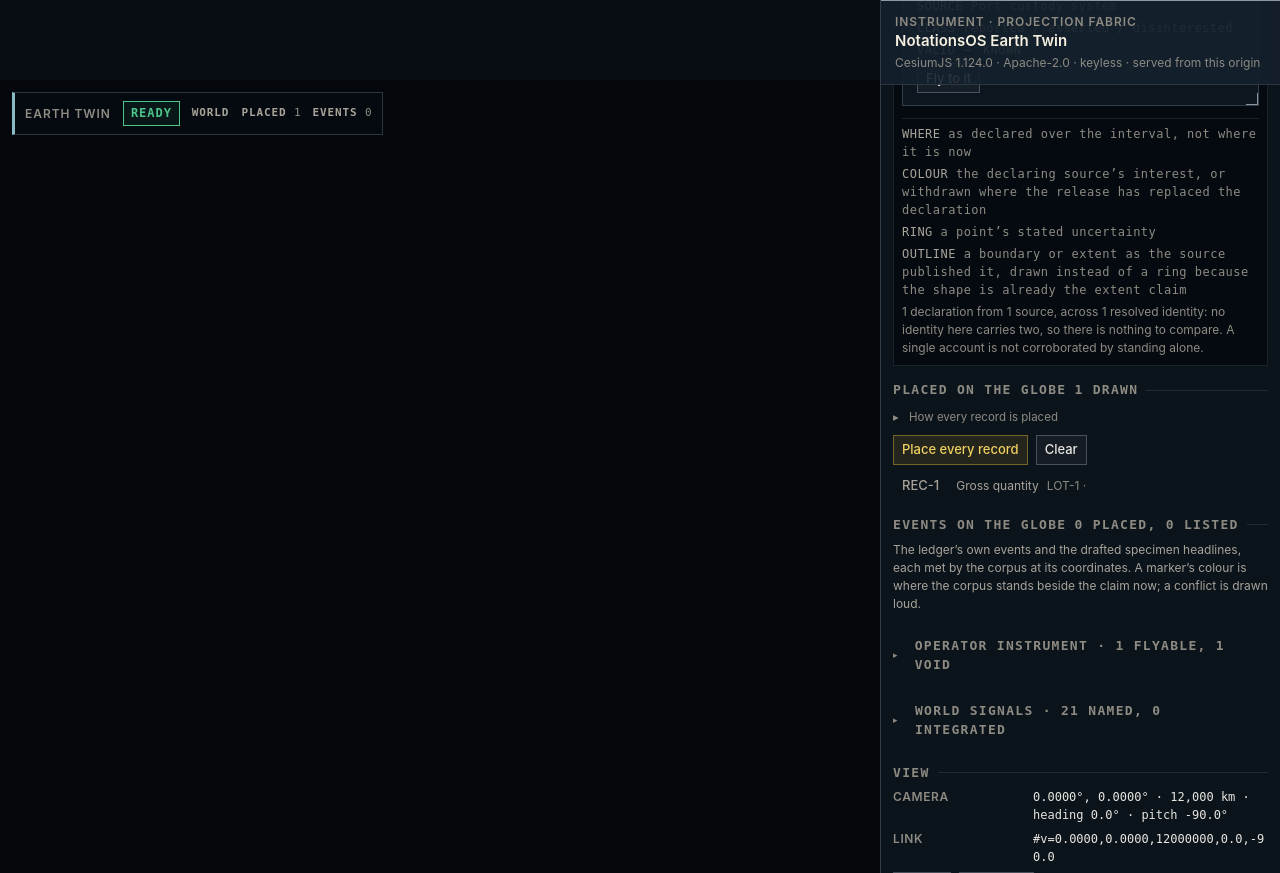
Test: EarthTwin › places every record of the release on request, each at its own validity start, and reports placed, unplaced and refused without inventing
The width and height of the screenshot is (1280, 873).
(page scrolled)
Click the button with test id "place-all": click(960, 450) [893, 435, 1028, 465]
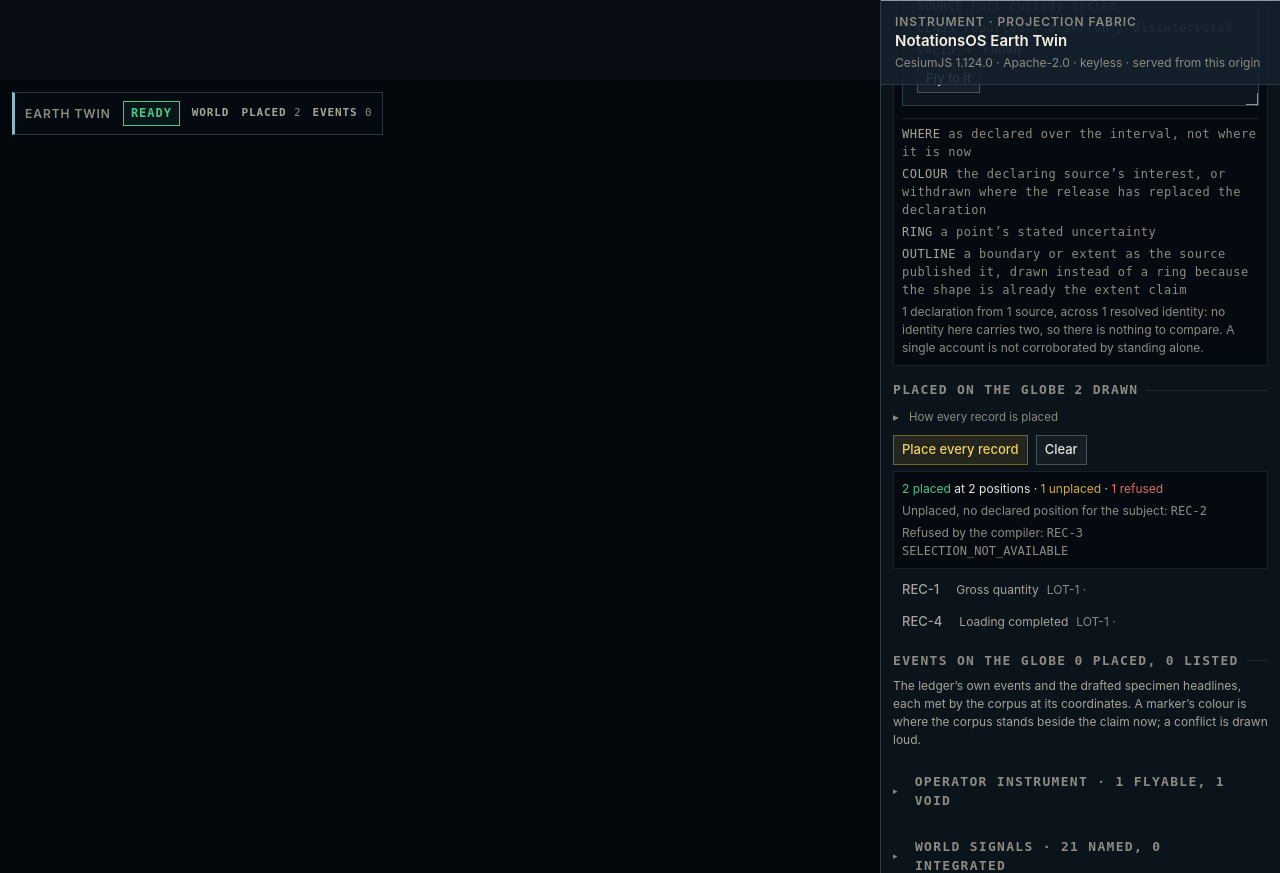
Expected: the element with test id "place-summary" shows "2 placed at 2 positions", [893, 471, 1268, 569]
Expected: the element with test id "place-summary" shows "REC-2", [1171, 504, 1207, 518]
Expected: the element with test id "place-summary" shows "REC-3 SELECTION_NOT_AVAILABLE", [893, 471, 1268, 569]
Click the button "Clear": click(1061, 450) [1036, 435, 1087, 465]
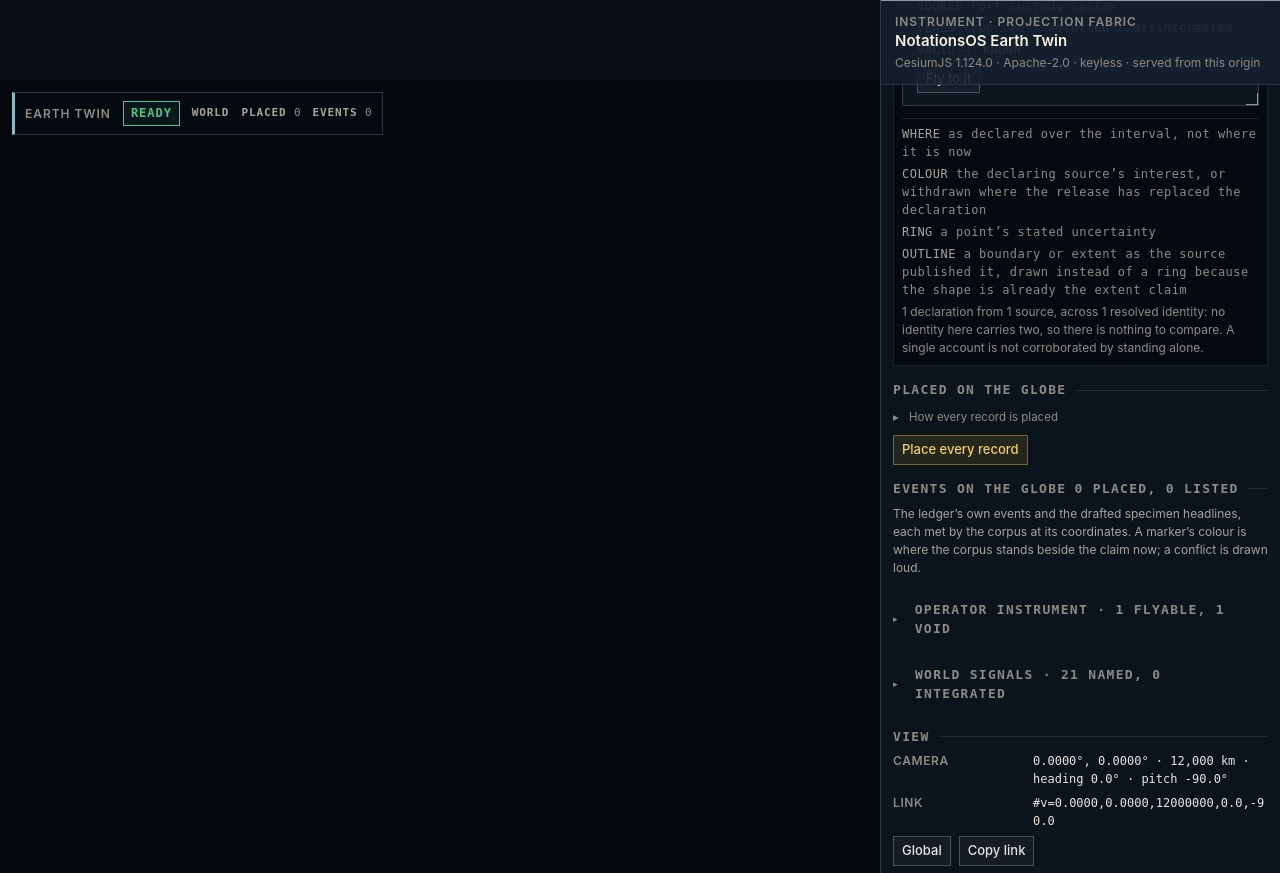
Expected: the element with test id "place-summary" is gone
